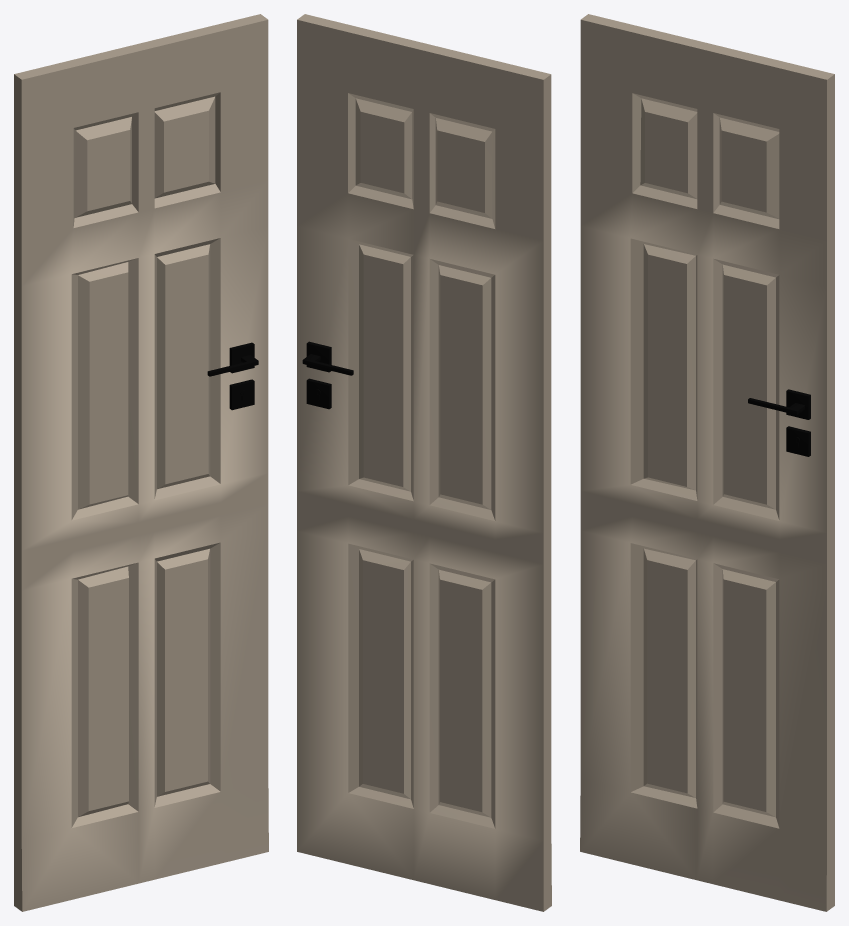
File: SC_4_3a_door.glb
3 renders of one model, left to right at view 1: azimuth 30°, elevation 25°; view 2: azimuth 150°, elevation 25°; view 3: azimuth 330°, elevation 25°, orthographic.
Parts seen in each view (by area): view 1: SC_4__3a_door_; view 2: SC_4__3a_door_; view 3: SC_4__3a_door_.
Part boxes in pixels (<box>): SC_4__3a_door_: <box>14,14,268,911</box>; SC_4__3a_door_: <box>297,14,551,911</box>; SC_4__3a_door_: <box>580,14,834,911</box>.
Bounding box in the file's own units: 0.5468 × 1.76 × 0.1089.
Materials: 1 (1 with a texture image).
